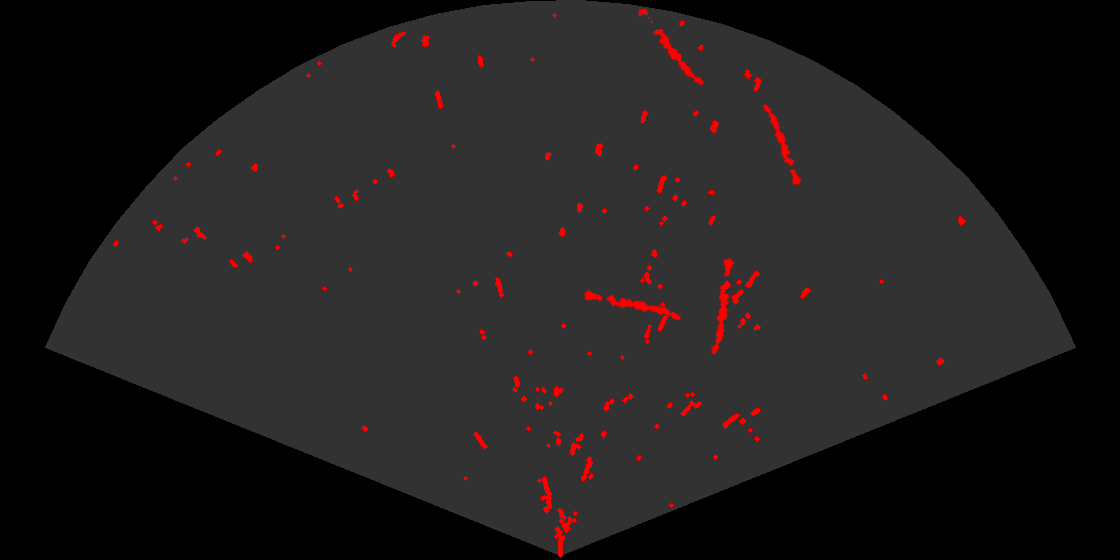chain: (637, 7, 705, 87), (761, 102, 803, 188), (582, 288, 683, 322), (710, 256, 736, 357)
